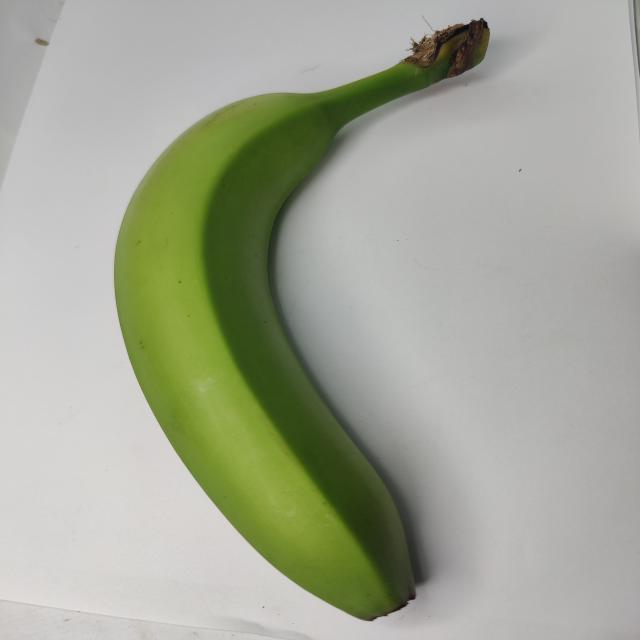raw: (83, 10, 545, 626)
